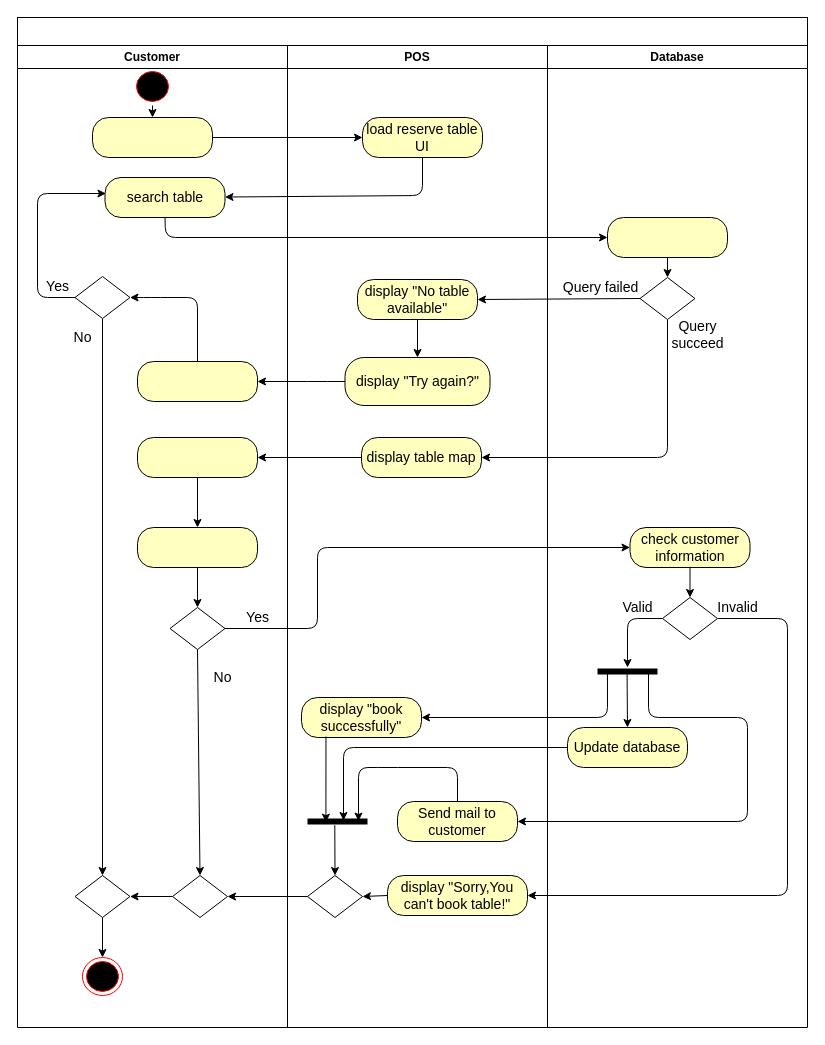
The diagram is 825 pixels wide and 1045 high, and some of its shapes have lost their labels. The box of each missing label's shape, as (x1, y1, x2, y2) in pixels:
Choose: (136, 360, 258, 402)
choose table: (136, 436, 258, 478)
click on "Reserve table": (92, 116, 212, 158)
confirm book: (136, 526, 258, 568)
query table data: (606, 216, 728, 258)
Reserve table: (16, 16, 808, 46)
